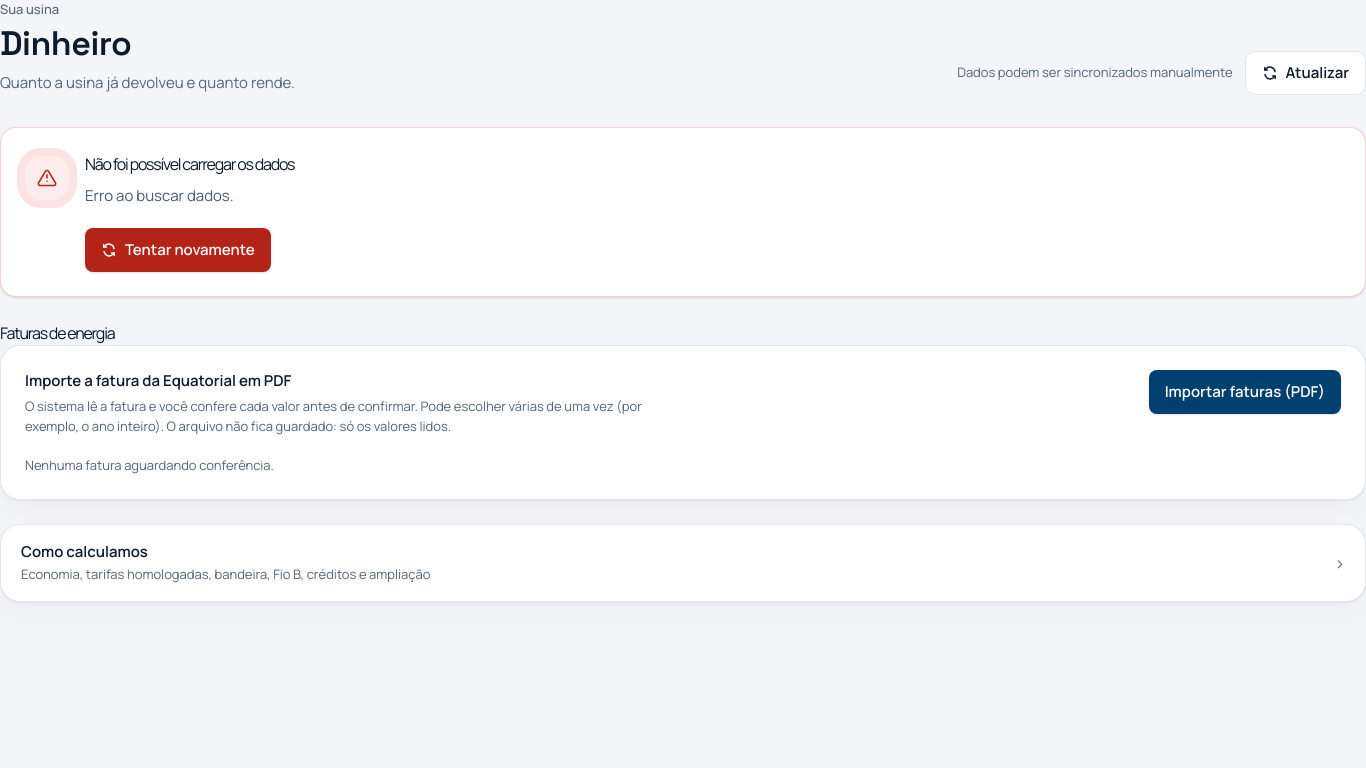
Test: FinancialPage — módulo Financeiro (ADR-072, Etapa 3) › em erro de /energy/executive/latest, mostra RetryableError e refaz o fetch ao clicar em "Tentar novamente"
The image size is (1366, 768).
Check: the message shows "Erro ao buscar dados.", box 85,185 -> 234,206
Check: the text "Detalhes da fatura de jul/26" is not shown
Click the button "Tentar novamente": point(178, 250) 85,228 -> 271,272
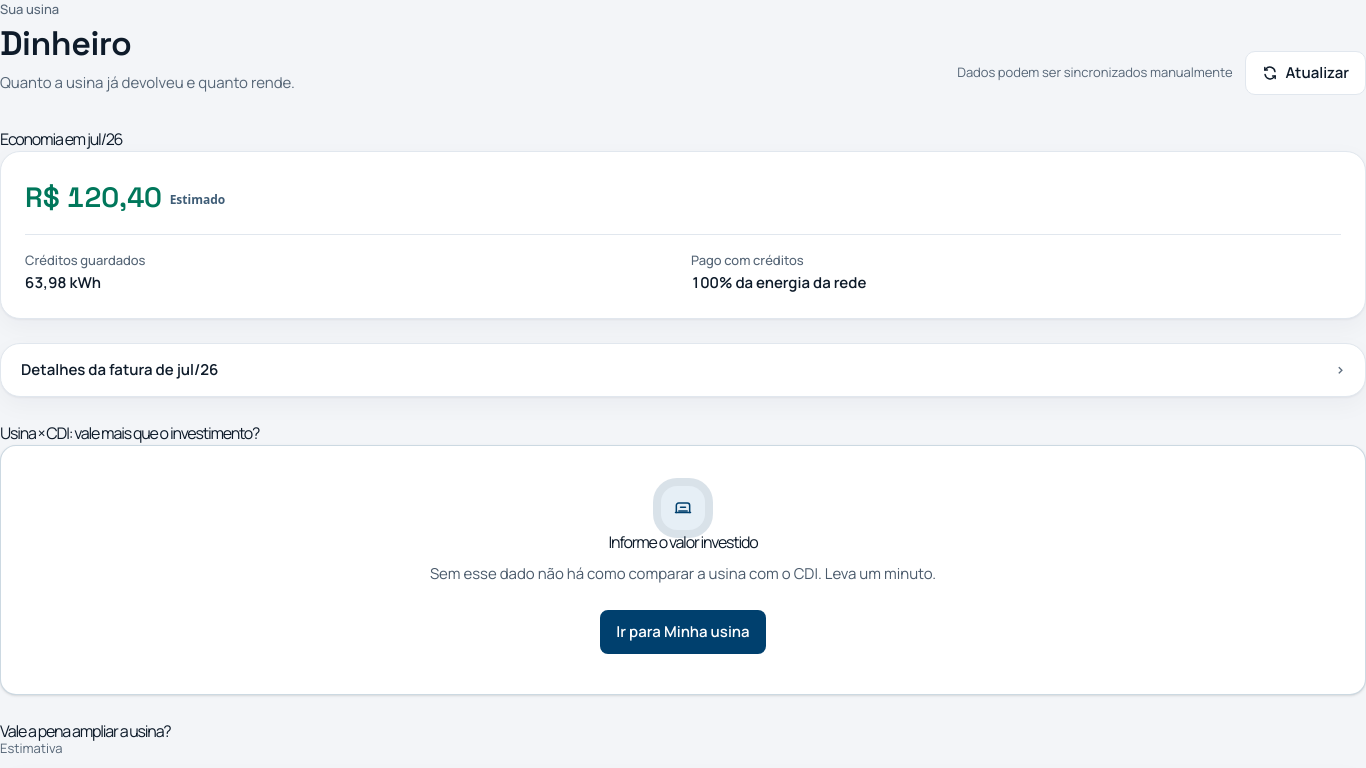
Check: the heading "Detalhes da fatura de jul/26 ›" is shown, box 21,359 -> 1345,380
